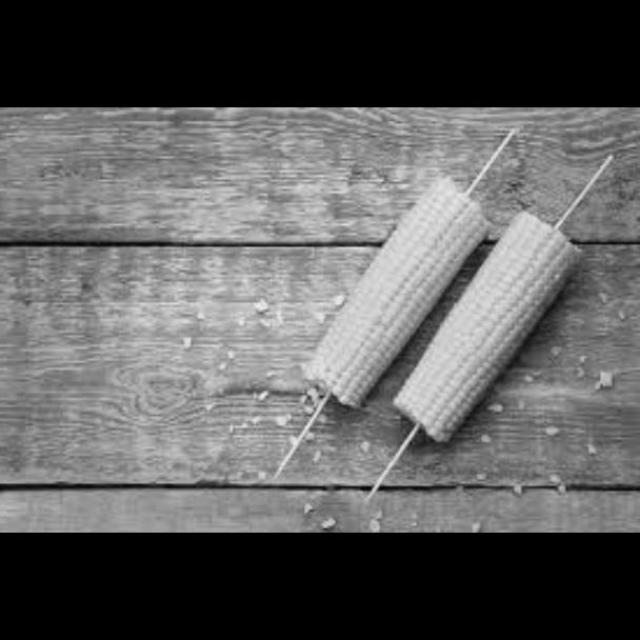ngu coc: (389, 199, 577, 454), (296, 175, 498, 412)
